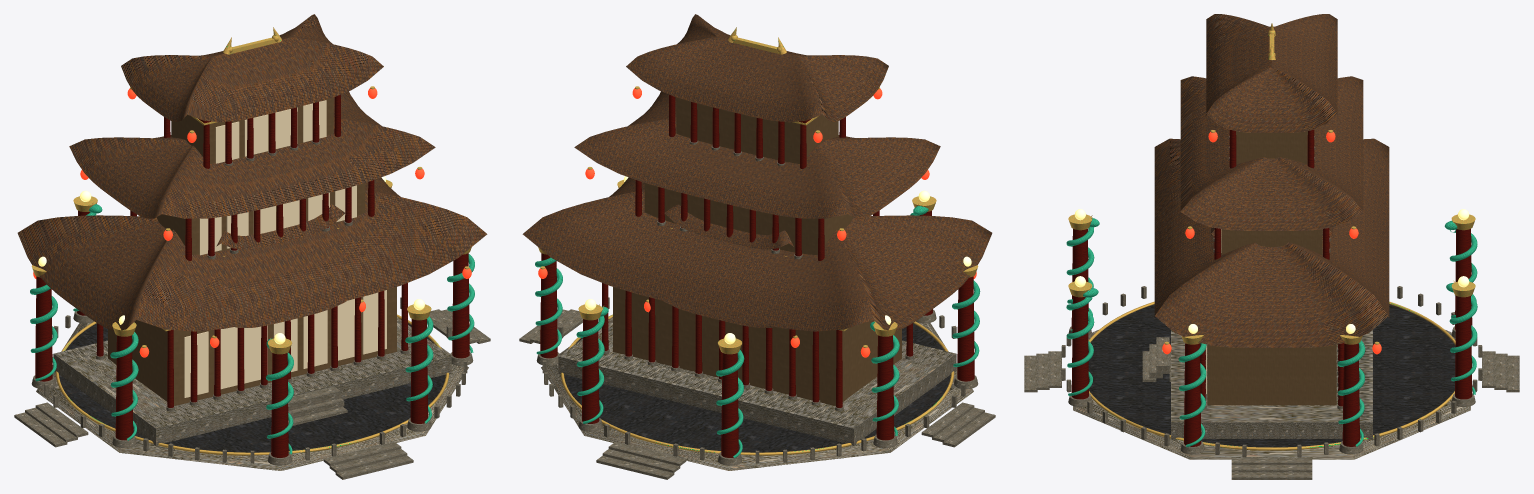
The model's file is tg-kien-truc.glb.
The picture shows the model from 3 angles, left to right: view 1: azimuth 30°, elevation 25°; view 2: azimuth 150°, elevation 25°; view 3: azimuth 270°, elevation 25°; orthographic projection.
Parts seen in each view (by area): view 1: dien-chinh, vo-dai, lau-ben; view 2: dien-chinh, vo-dai, lau-ben; view 3: dien-chinh, vo-dai.
Part boxes in pixels (<box>): dien-chinh: <box>17,14,487,445</box>; vo-dai: <box>14,176,490,479</box>; lau-ben: <box>210,204,366,389</box>; dien-chinh: <box>522,14,992,445</box>; vo-dai: <box>519,176,995,479</box>; lau-ben: <box>643,204,799,381</box>; dien-chinh: <box>1142,14,1389,439</box>; vo-dai: <box>1024,209,1519,479</box>.
Size of the model in its own units: 36.8 by 28.1 by 36.8.
17 materials, 7 textured.
